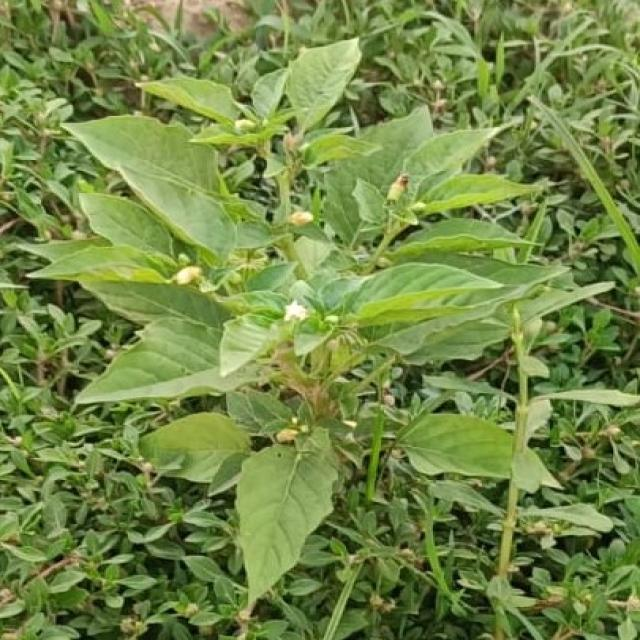weed: (34, 39, 613, 616), (392, 411, 556, 496)
